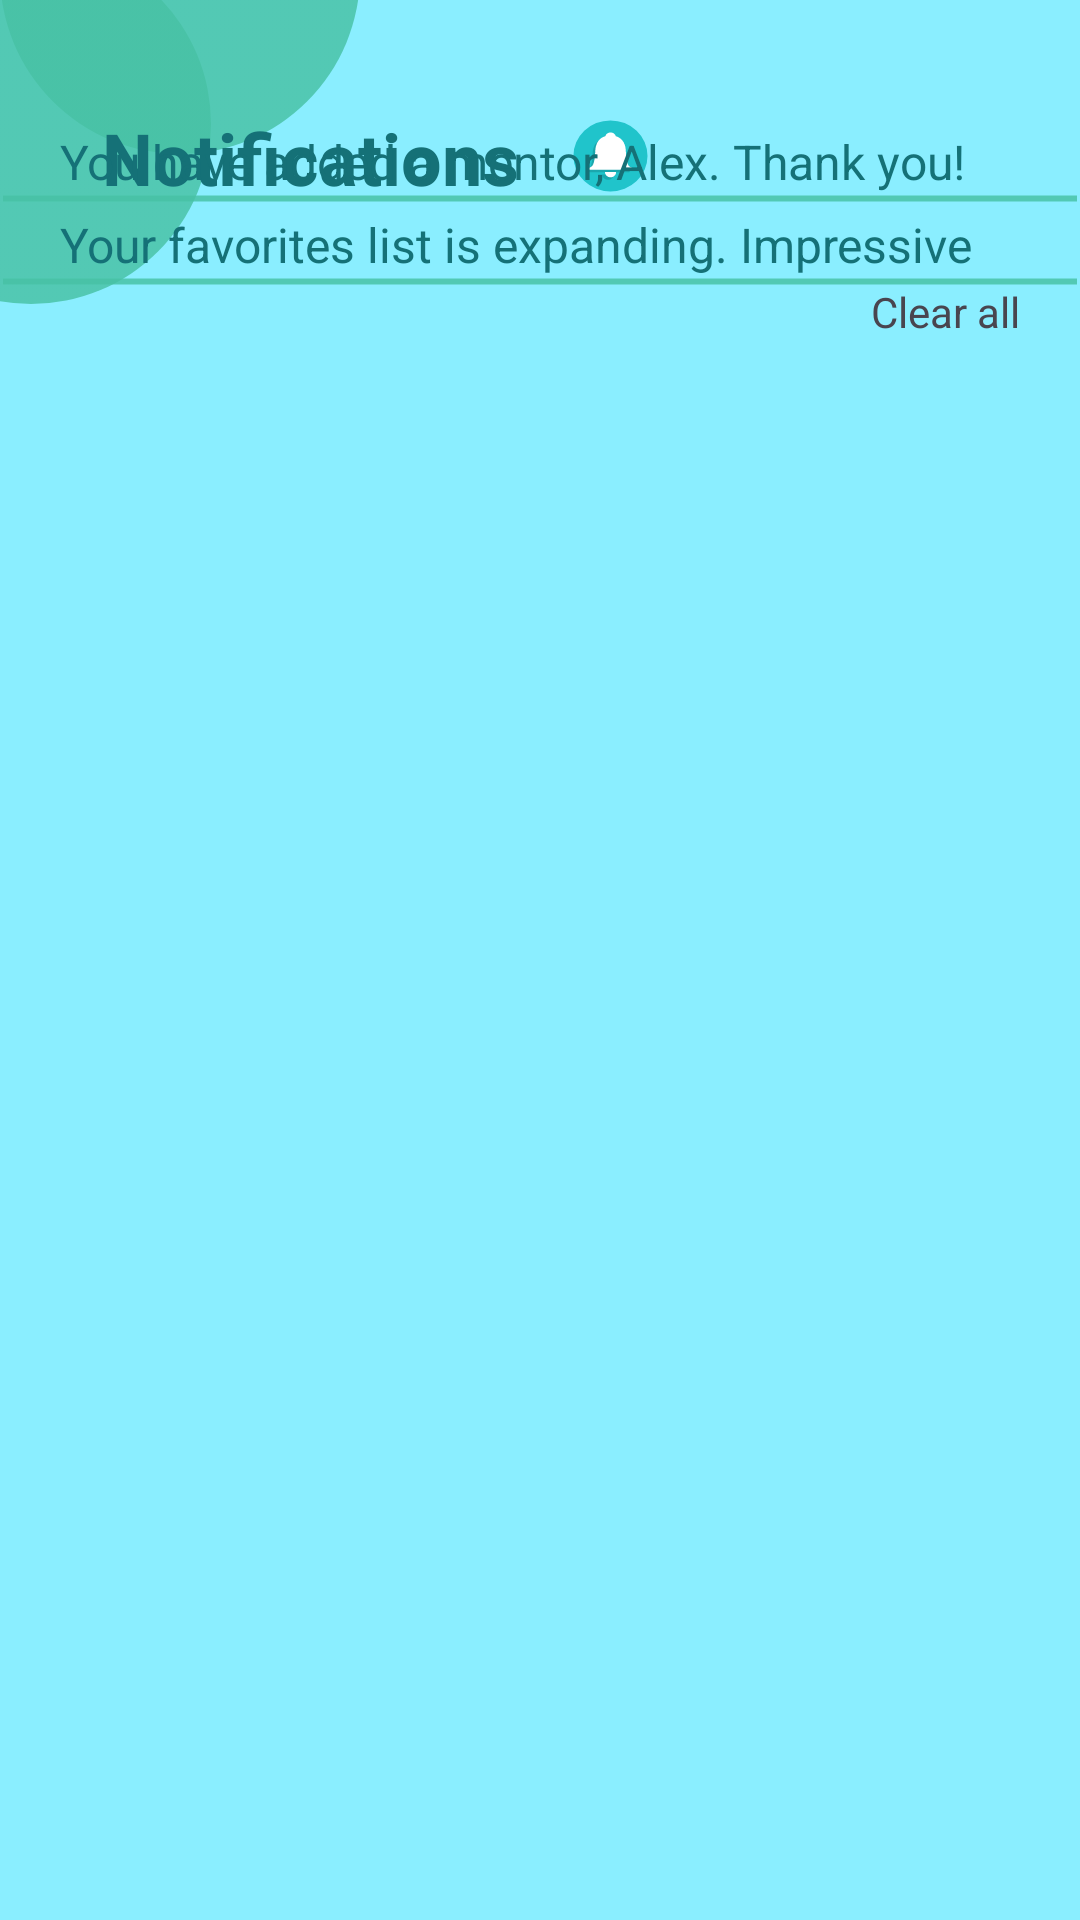

Named icons in this screenshot (1080×1920) and their centers, point (x, y):
notification bell: point (610, 156)
